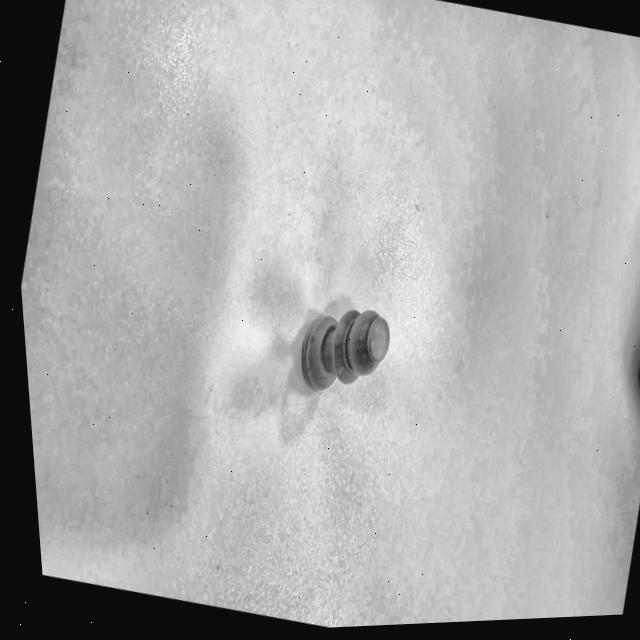white-bishop: (301, 309, 389, 389)
